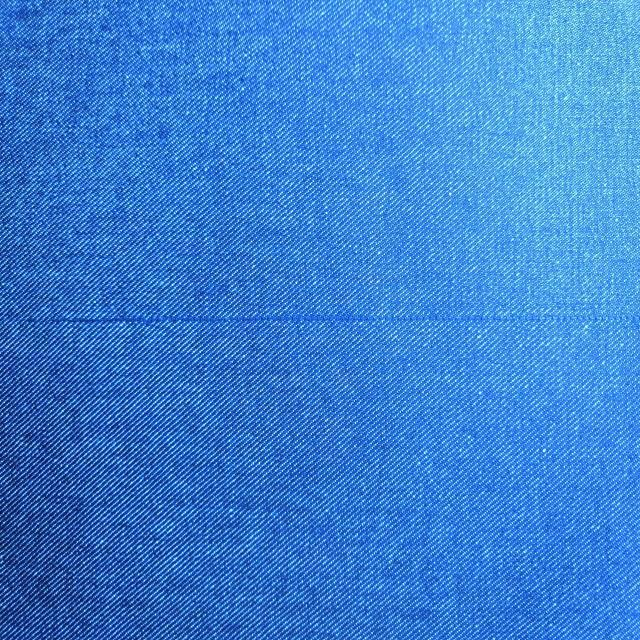Line: (0, 312, 640, 323)
